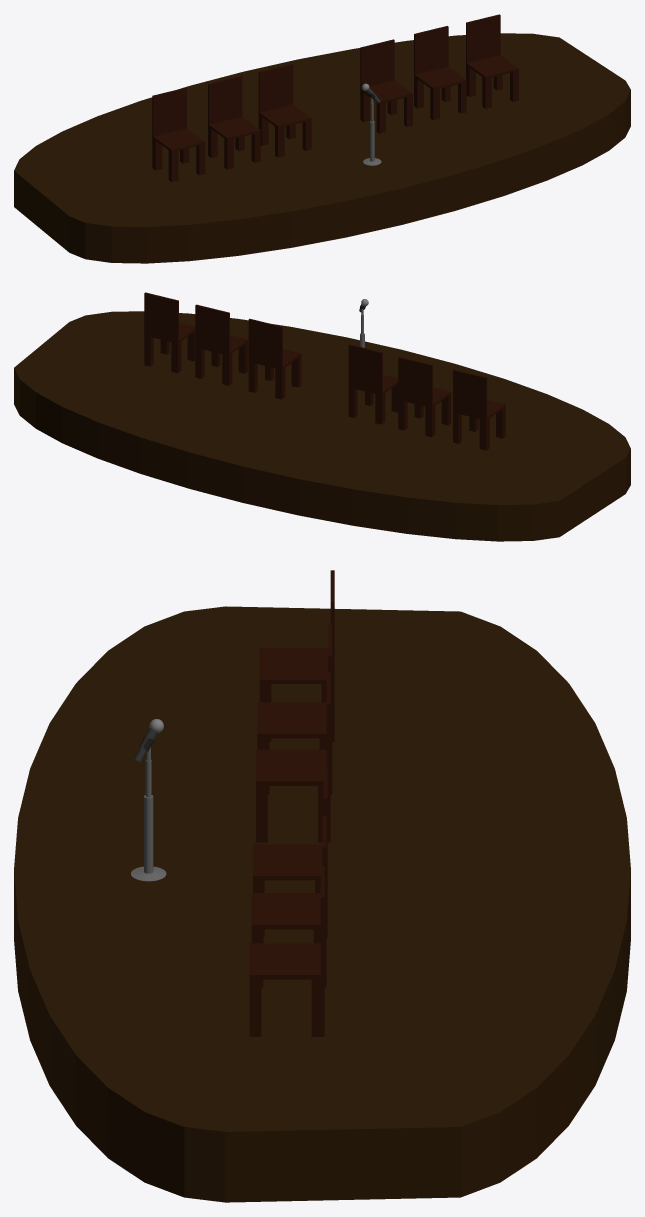
Rendered from StageChairMicModel.fbx.
3 views of the same model, one above another, from view 1: azimuth 30°, elevation 25°; view 2: azimuth 150°, elevation 25°; view 3: azimuth 270°, elevation 25° (orthographic). The views are drawn at different scales.
Visible parts, largest first — view 1: Stage, Cube, Cube.002, Cube.001, Cube.004, Cube.005, Cube.003, Cylinder.001; view 2: Stage, Cube.004, Cube.003, Cube.001, Cube, Cube.005, Cube.002; view 3: Stage, Cube.005, Cube.002, Cube.004, Cube, Cube.001, Cube.003, Cylinder.001.
Part boxes in pixels (x1,y1,x2,y2): Stage: [14, 33, 630, 263]; Cube: [152, 87, 205, 181]; Cube.002: [258, 64, 311, 157]; Cube.001: [208, 76, 260, 169]; Cube.004: [414, 26, 466, 120]; Cube.005: [466, 14, 518, 108]; Cube.003: [360, 39, 412, 133]; Cylinder.001: [363, 97, 381, 165]; Stage: [14, 311, 630, 541]; Cube.004: [195, 304, 248, 385]; Cube.003: [248, 318, 301, 399]; Cube.001: [398, 356, 451, 437]; Cube: [453, 369, 505, 450]; Cube.005: [144, 292, 195, 373]; Cube.002: [348, 344, 398, 424]; Stage: [14, 606, 630, 1202]; Cube.005: [249, 865, 324, 1036]; Cube.002: [256, 672, 330, 842]; Cube.004: [251, 815, 326, 987]; Cube: [259, 570, 334, 741]; Cube.001: [257, 624, 332, 794]; Cube.003: [253, 766, 327, 937]; Cylinder.001: [131, 747, 166, 881].
Bounding box in the file's own units: 2139 × 419 × 1062.
